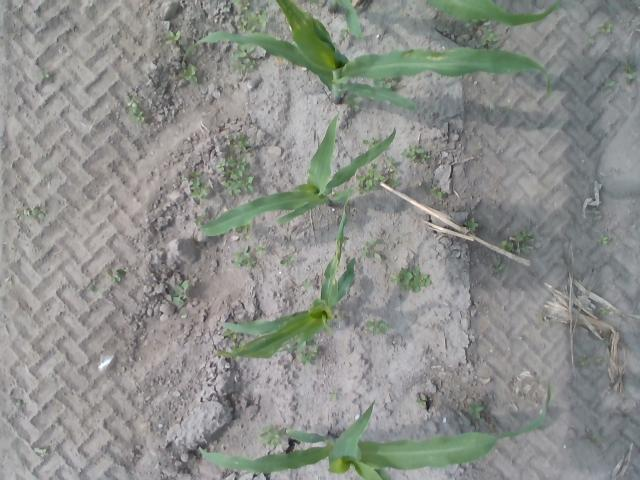Maize: (182, 0, 550, 112), (194, 381, 551, 480), (198, 111, 398, 237), (211, 203, 359, 362), (428, 0, 560, 26), (328, 0, 364, 43)
Weeds: (216, 131, 253, 195), (390, 265, 436, 295), (232, 0, 268, 35), (500, 226, 534, 255), (356, 163, 385, 196), (123, 92, 149, 124), (256, 423, 286, 449), (233, 44, 260, 72), (183, 170, 210, 198), (400, 144, 432, 164), (359, 236, 383, 260), (174, 277, 192, 309), (386, 155, 402, 190), (232, 244, 256, 266), (298, 343, 318, 366), (478, 28, 499, 49), (620, 59, 638, 83), (181, 64, 199, 86), (105, 267, 128, 284), (364, 318, 388, 334), (581, 429, 604, 445), (24, 206, 46, 222), (599, 76, 619, 93), (360, 133, 381, 149), (468, 399, 484, 420), (346, 95, 364, 112), (165, 29, 182, 46), (235, 224, 252, 240), (493, 257, 506, 276), (39, 68, 54, 84), (598, 21, 615, 35), (372, 78, 394, 88), (278, 254, 296, 266), (596, 232, 611, 246), (466, 218, 480, 232), (302, 277, 315, 292), (253, 243, 268, 256), (432, 186, 448, 198), (229, 340, 246, 351), (578, 354, 592, 367), (330, 386, 340, 404), (220, 330, 238, 340), (12, 208, 24, 221), (33, 447, 47, 458), (94, 288, 108, 298), (465, 19, 477, 30), (193, 214, 204, 226), (10, 399, 23, 409), (597, 306, 610, 316), (417, 396, 427, 406), (4, 276, 12, 286), (588, 37, 596, 46), (500, 107, 509, 115), (86, 282, 94, 290), (341, 28, 348, 36), (488, 104, 496, 111), (596, 357, 602, 365)
